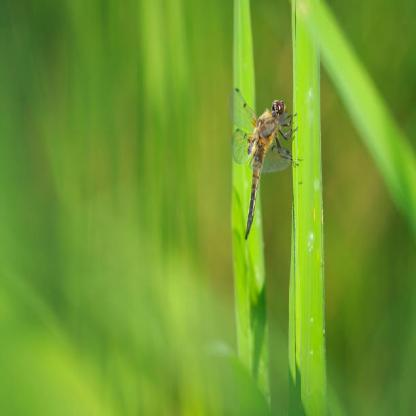sawfly: (228, 74, 303, 244)
